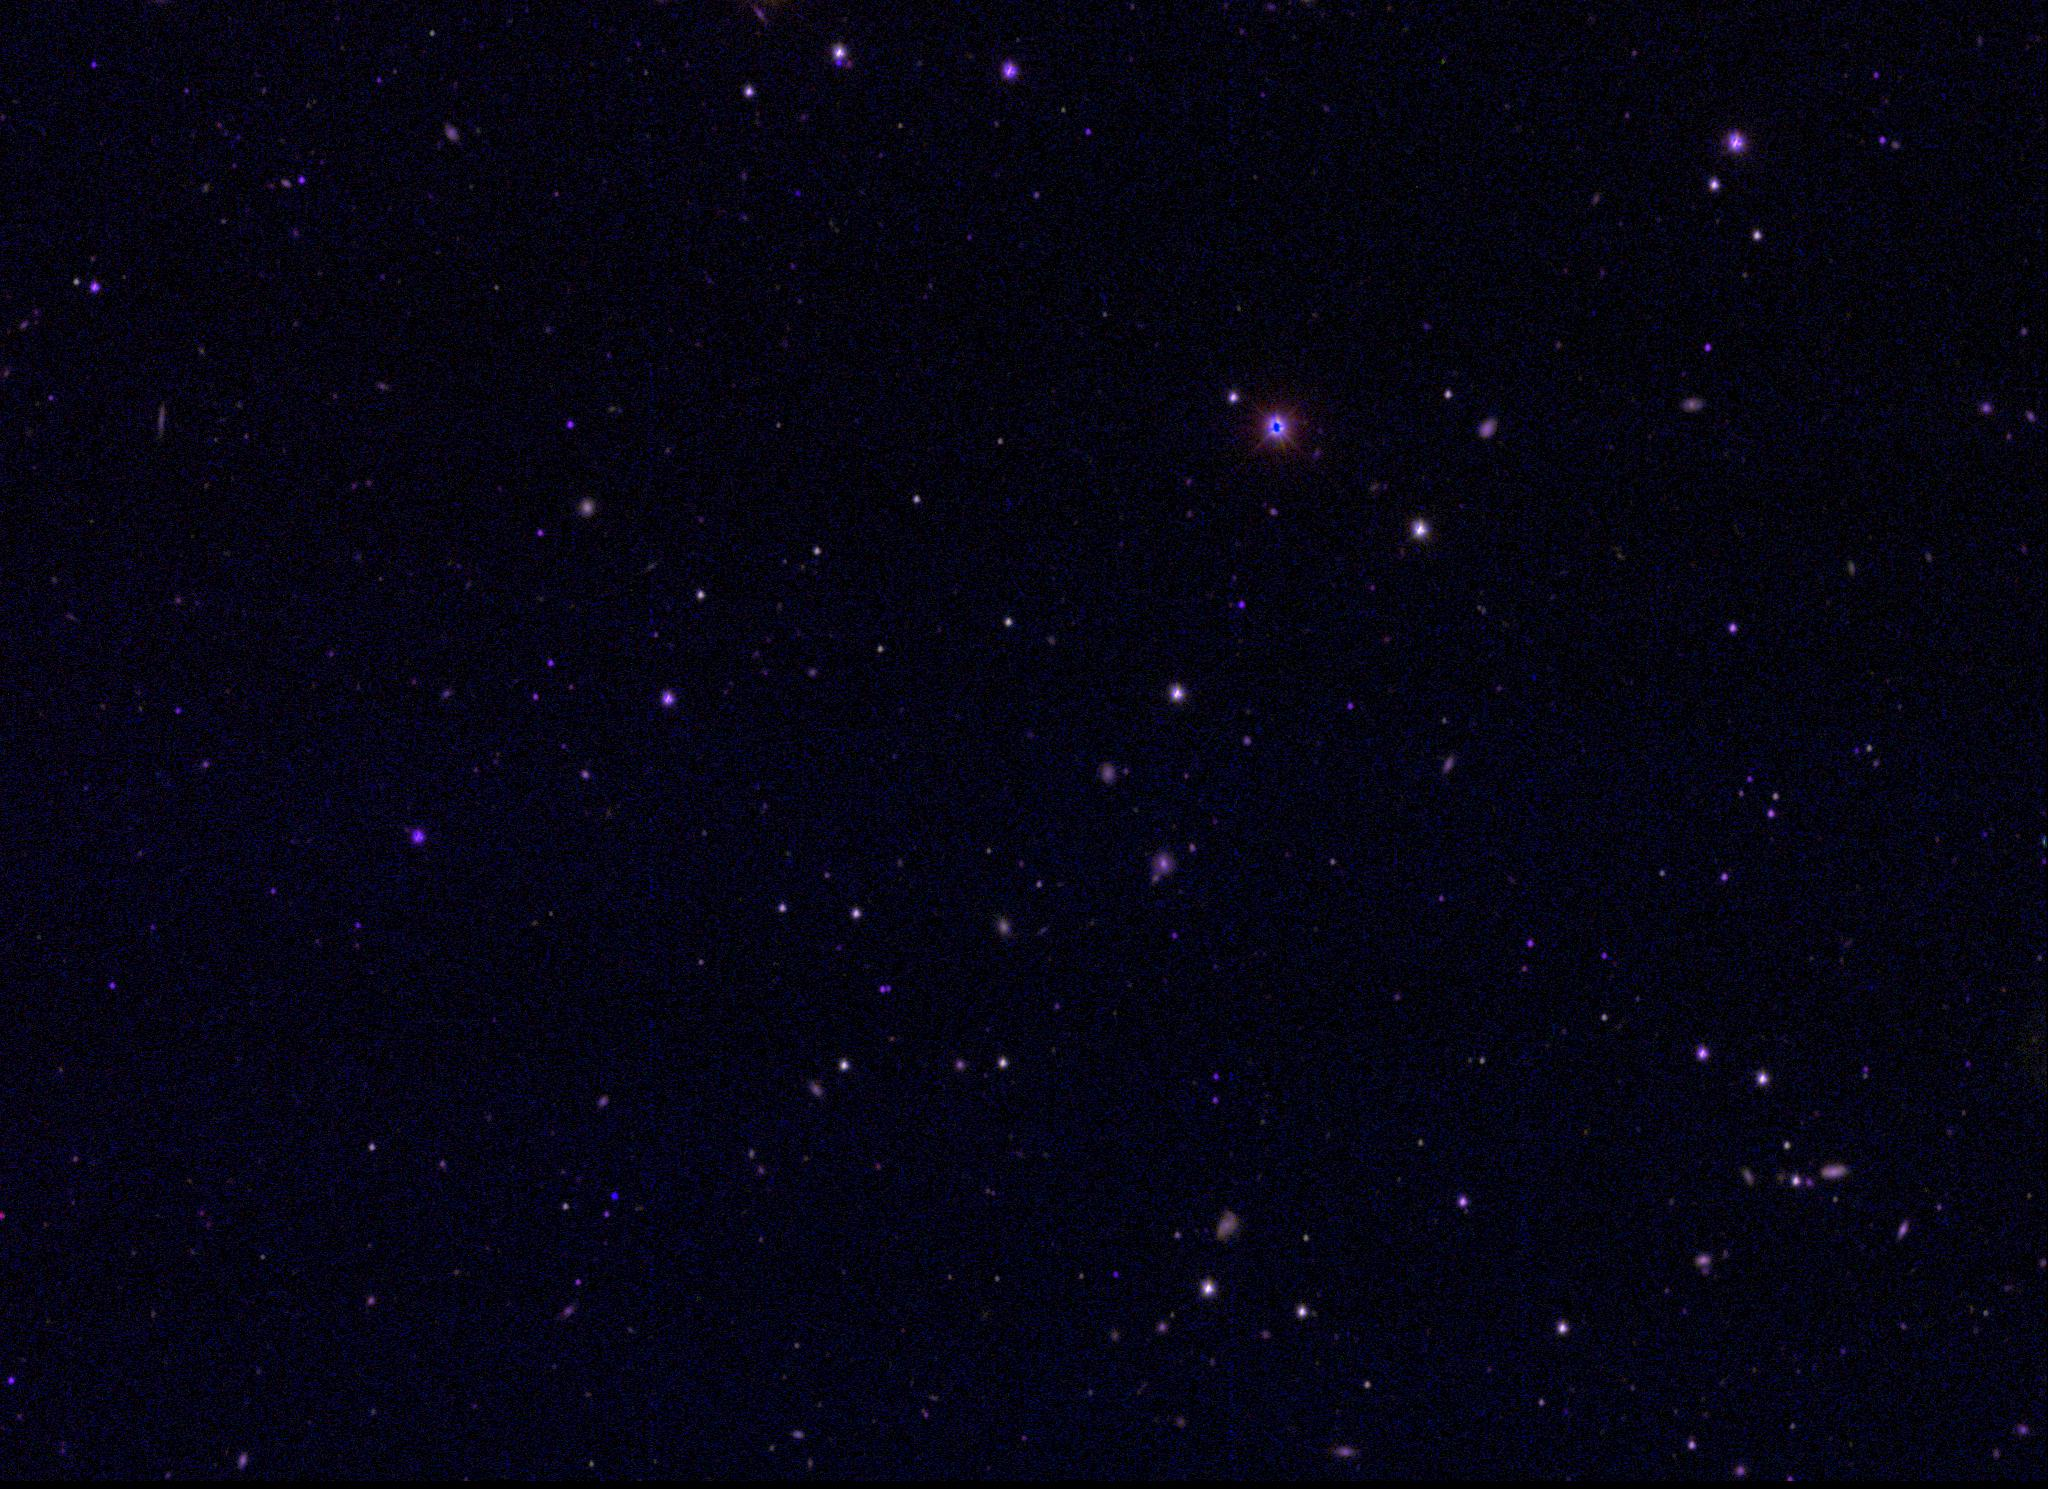L: (607, 1188, 622, 1203)
